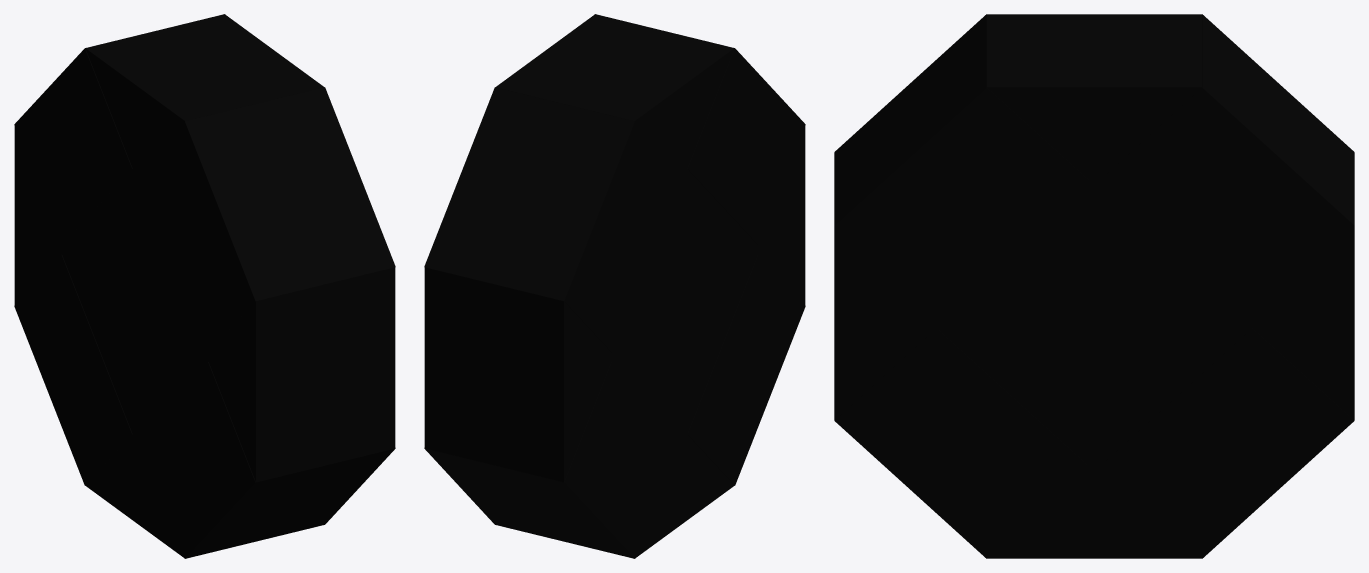
The model's file is varta_wheel.obj.
The picture shows the model from 3 angles, left to right: view 1: azimuth 30°, elevation 25°; view 2: azimuth 150°, elevation 25°; view 3: azimuth 270°, elevation 25°; orthographic projection. The views are drawn at different scales.
Parts seen in each view (by area): view 1: #translucent_mudAcc_tire; view 2: #translucent_mudAcc_tire; view 3: #translucent_mudAcc_tire.
Part boxes in pixels (x1,y1,x2,y2): #translucent_mudAcc_tire: [14, 14, 395, 558]; #translucent_mudAcc_tire: [424, 14, 805, 558]; #translucent_mudAcc_tire: [834, 14, 1354, 558].
Bounding box in the file's own units: 0.4765 × 1.42 × 1.42.
